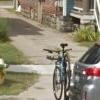Bicycle: (36, 34, 75, 100)
